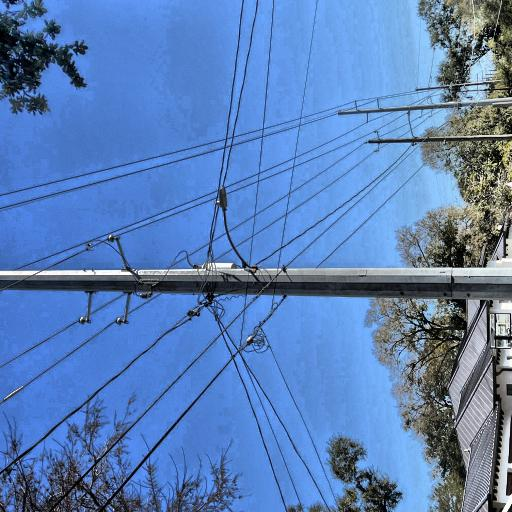pole: (80, 0, 124, 512)
street light: (115, 353, 191, 402)
transformer: (106, 337, 122, 378)
